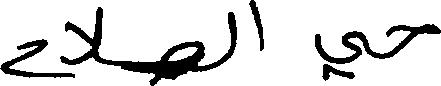X: (61, 2, 101, 82), (313, 26, 365, 85), (388, 19, 440, 62), (0, 34, 44, 82), (162, 36, 202, 84), (247, 0, 264, 55), (227, 7, 237, 64)
